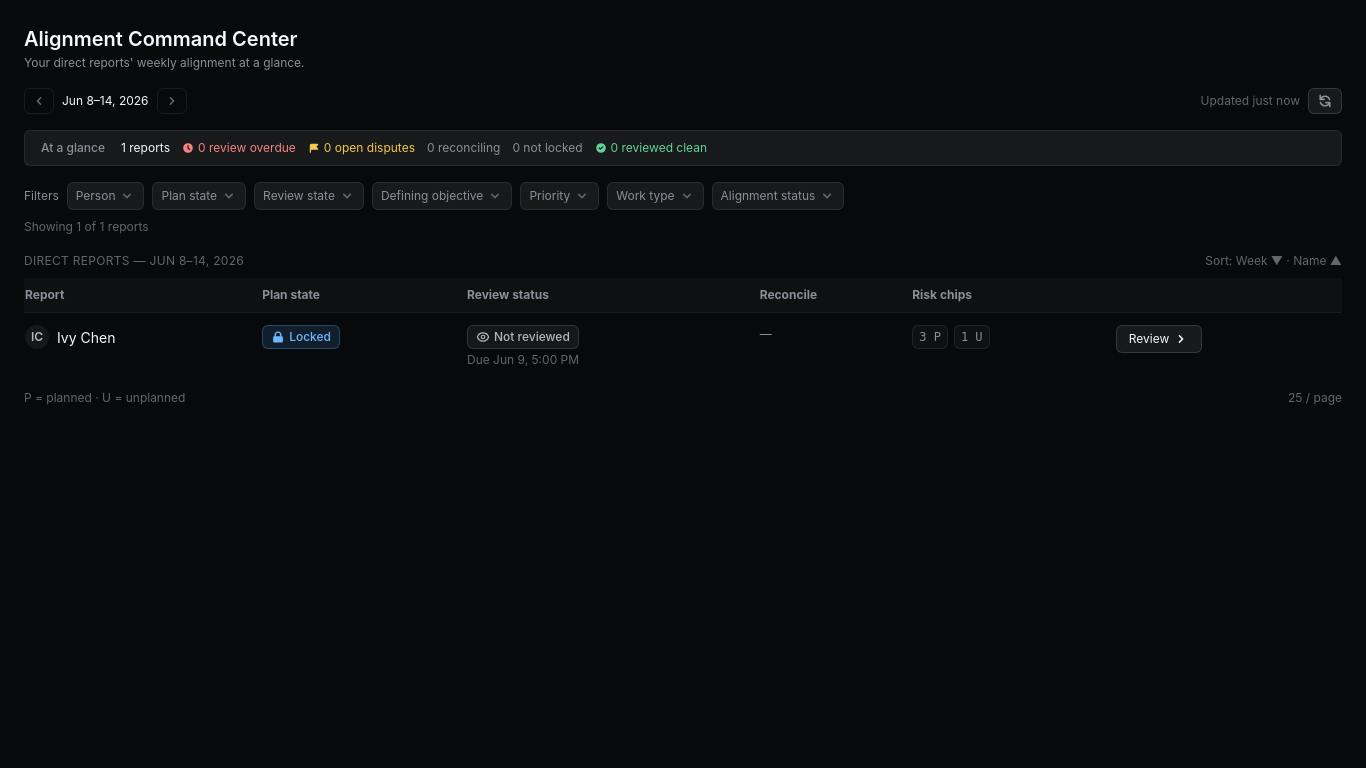
Scenario: CommandCenter → manager dispute surface (9.14) › manager_open_dispute_control_renders_when_authorized: an undisputed commitment with OPEN_DISPUTE ∈ allowedActions shows the open form; one without it does not (
The image size is (1366, 768).
Click the button "Review" at (1159, 339), box [1116,325,1202,353]
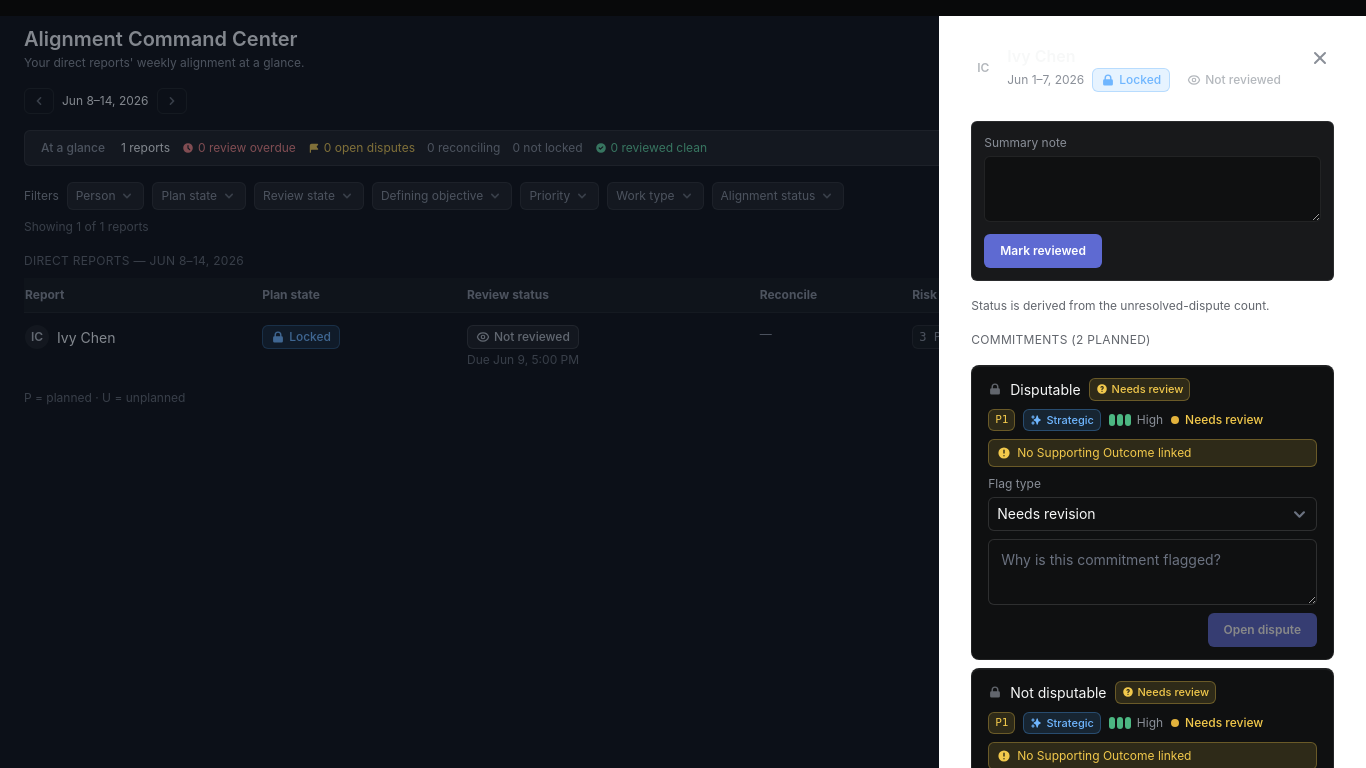
Result: the element with test id "dispute-open-form" is shown at [988,475,1317,647]
